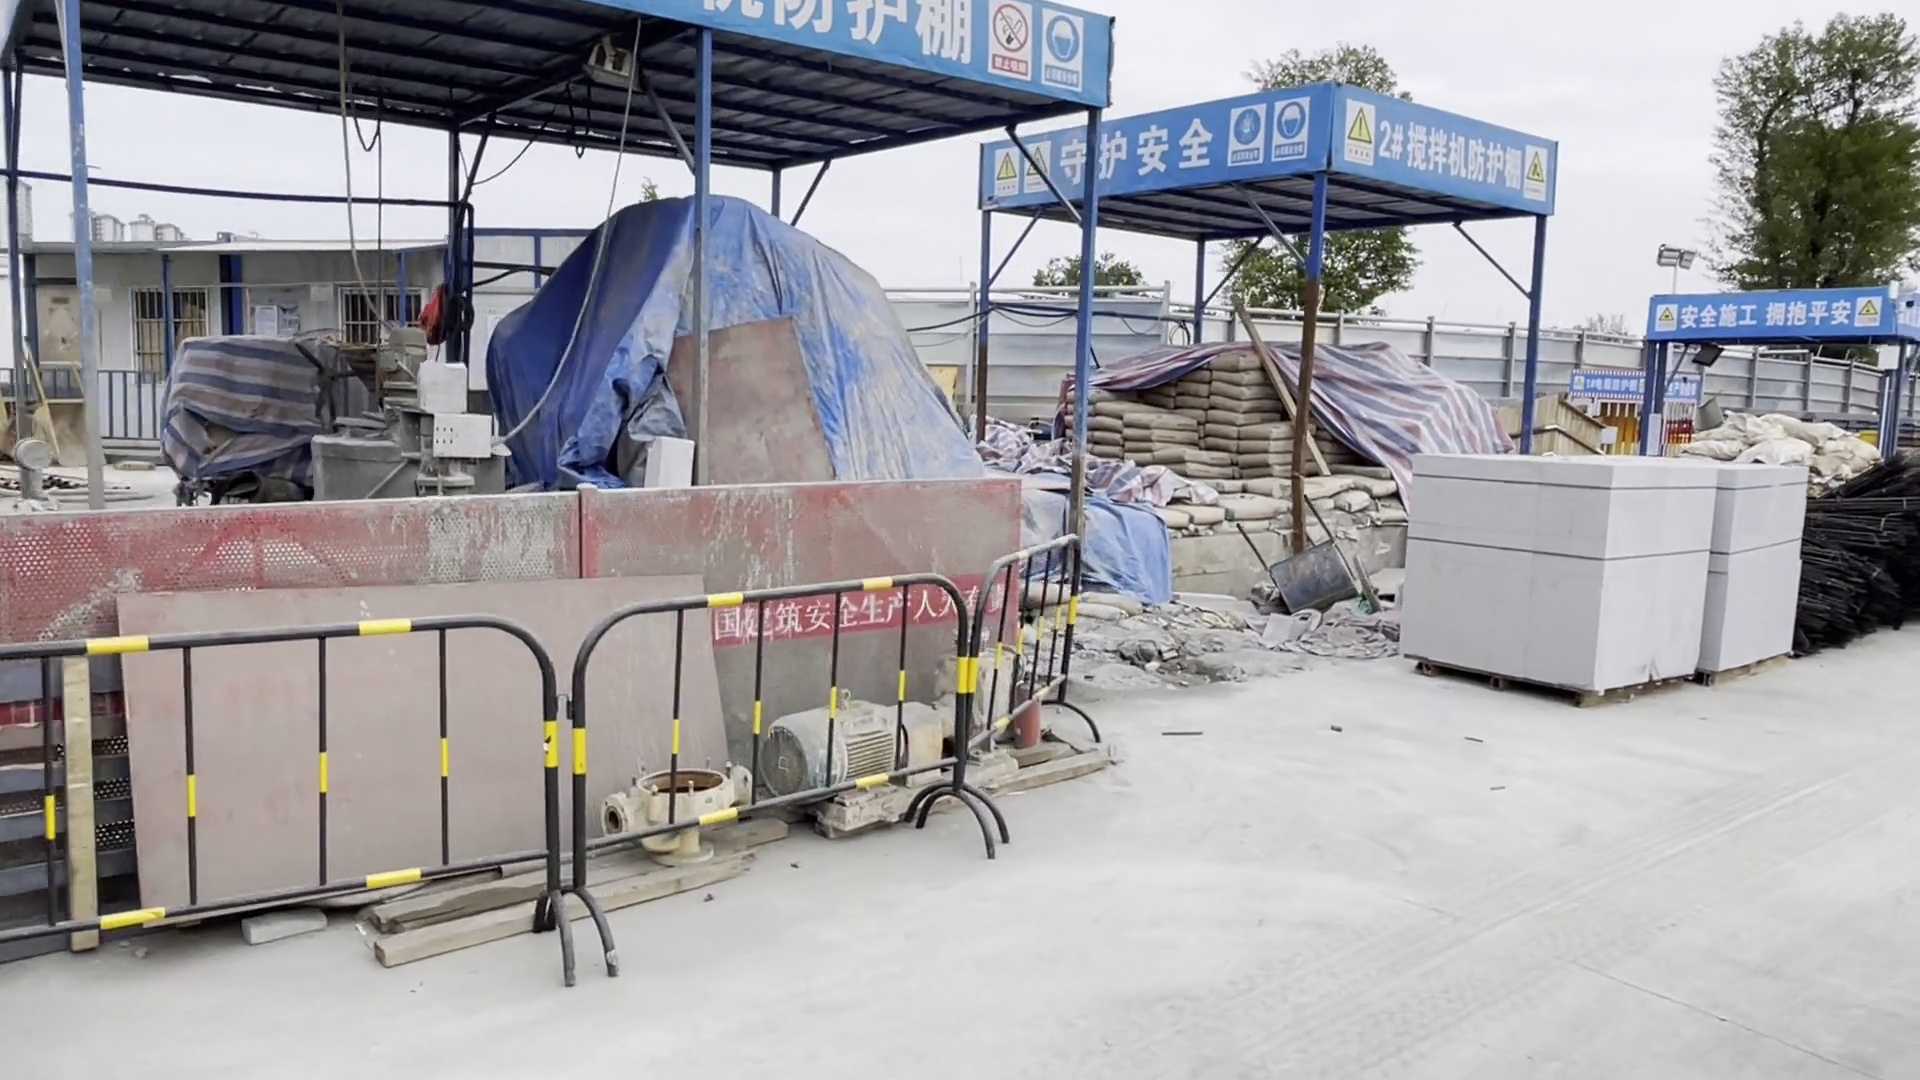brick: (1396, 443, 1708, 719), (1697, 447, 1812, 692)
fence: (7, 485, 1022, 785)
slogan: (707, 1, 1095, 102), (986, 95, 1294, 181), (1648, 285, 1896, 338)
